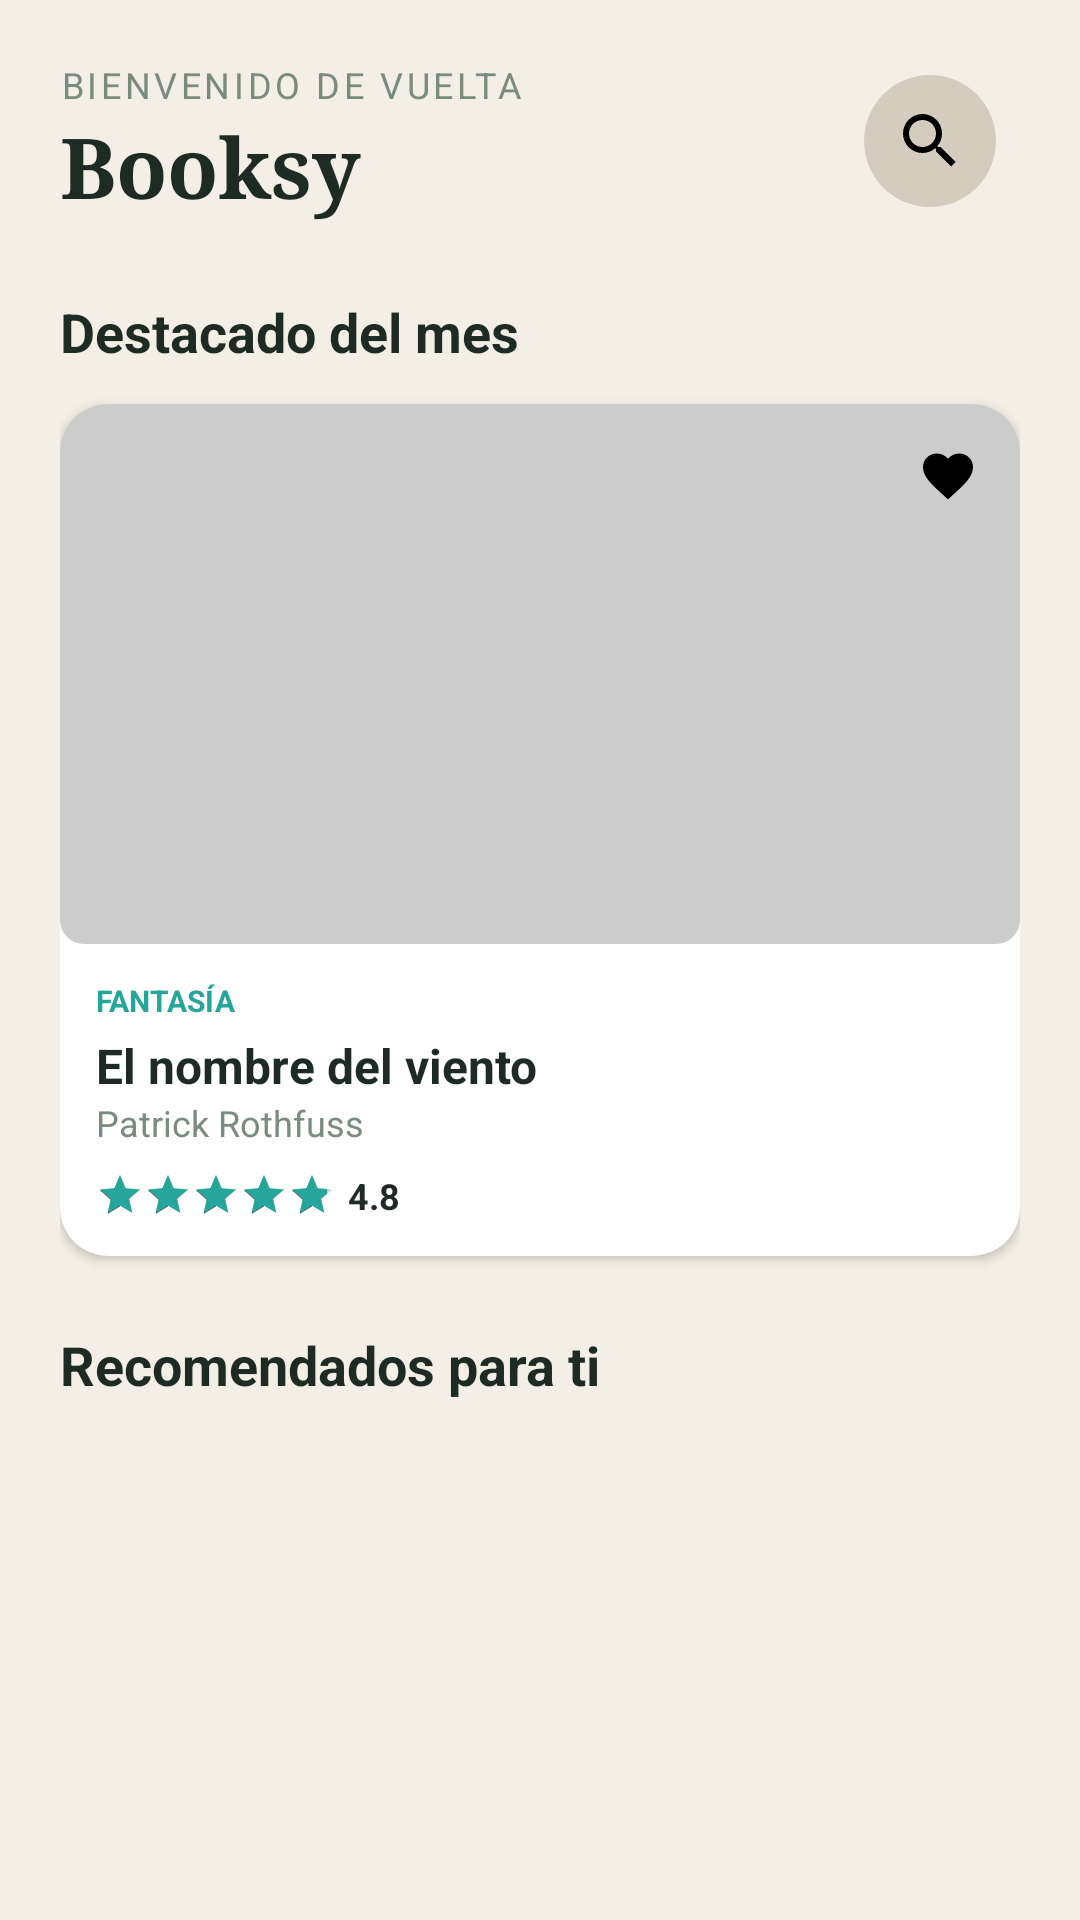

Point at icon controls on the screen. Image size 1080 × 1920, points as (x,y).
Buscar: (930,141)
